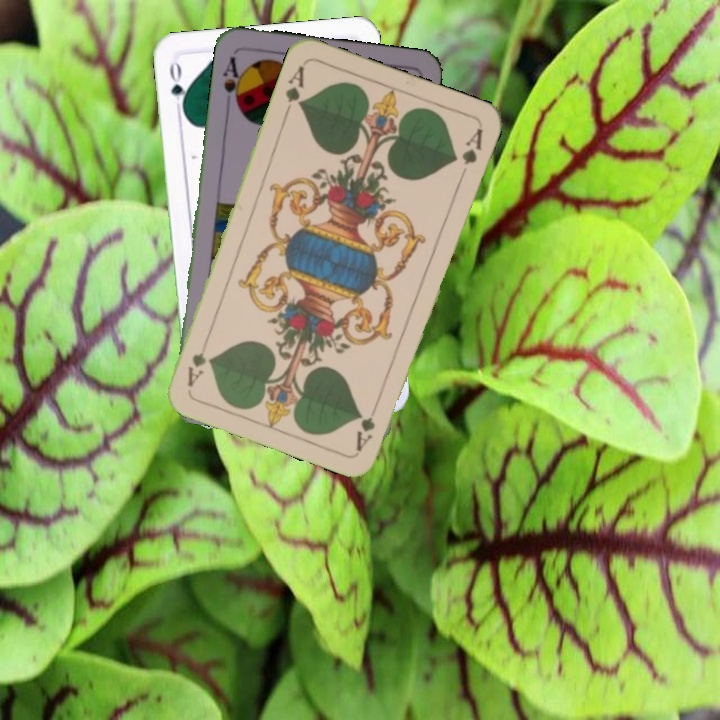GA: (352, 397, 382, 454), (280, 61, 307, 118)
GO: (165, 57, 190, 116)
SA: (218, 52, 246, 111)
